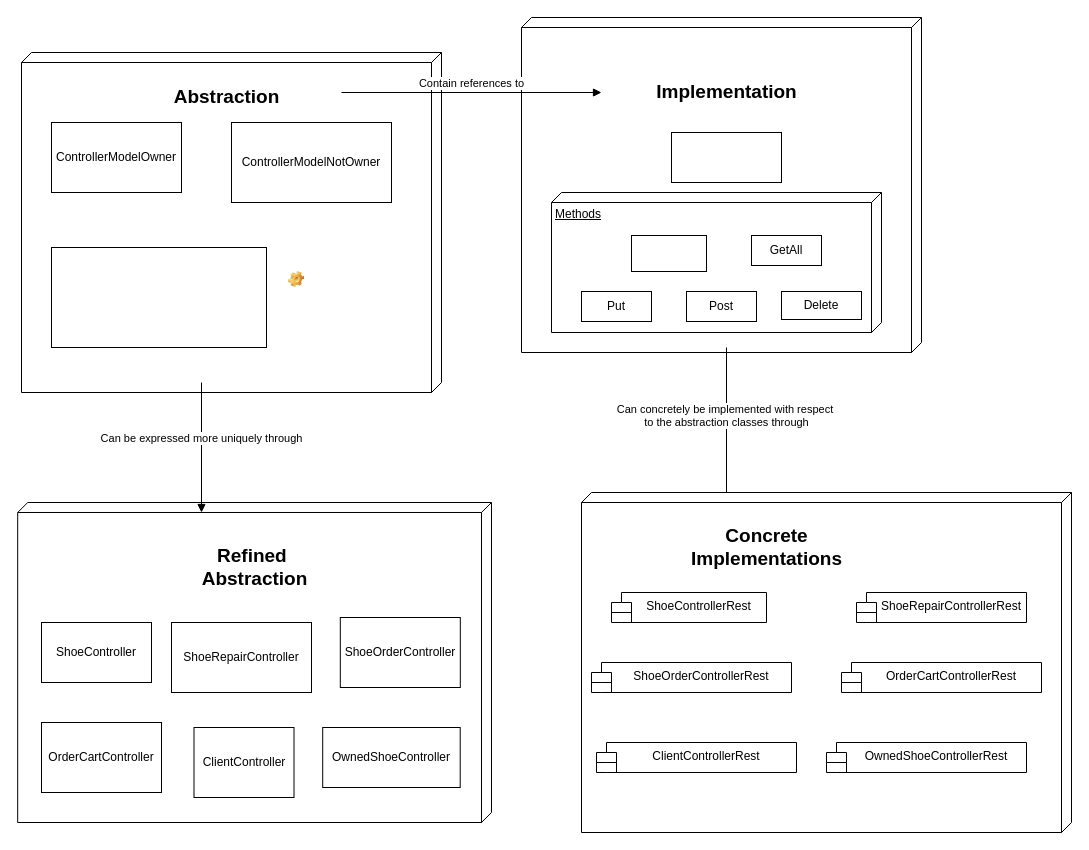
The diagram is 1089 pixels wide and 850 high, and some of its shapes have lost their labels. The centre of each missing label's shape, as x and y in pixels:
"attribute: restOperation interface reference" goes at pixel 351 279.
"ControllerModelOwnerWithArray" goes at pixel 158 297.
"Get" goes at pixel 668 253.
"«interface» restOperation" goes at pixel 726 157.
